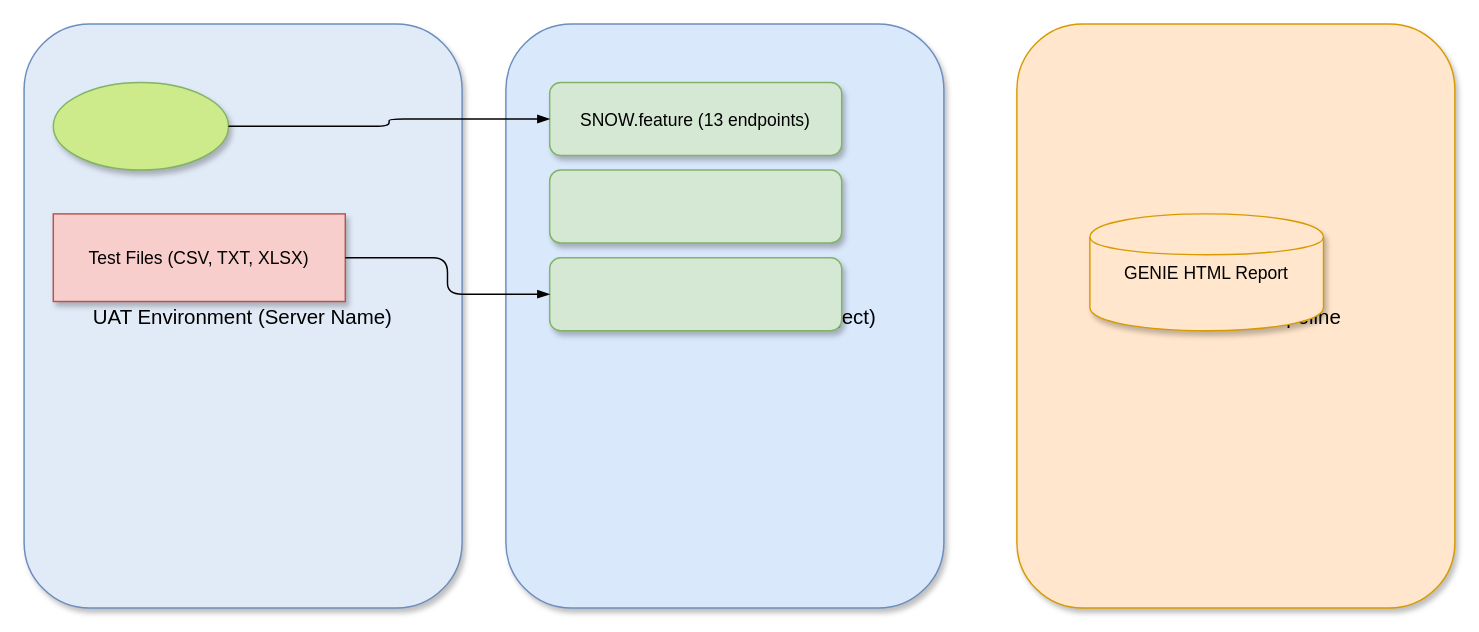
Image size: 1479x632. Some labels were removed from this diagram. The shapes that lost their labels are listed below. From the top down, each one's centre as x and y in pixels, then its label:
the point at 141,127: Swagger UI (Endpoints)
the point at 696,208: HashiCorp.feature (5 endpoints)
the point at 696,295: Generic.feature (Oracle/Unix/Other)
